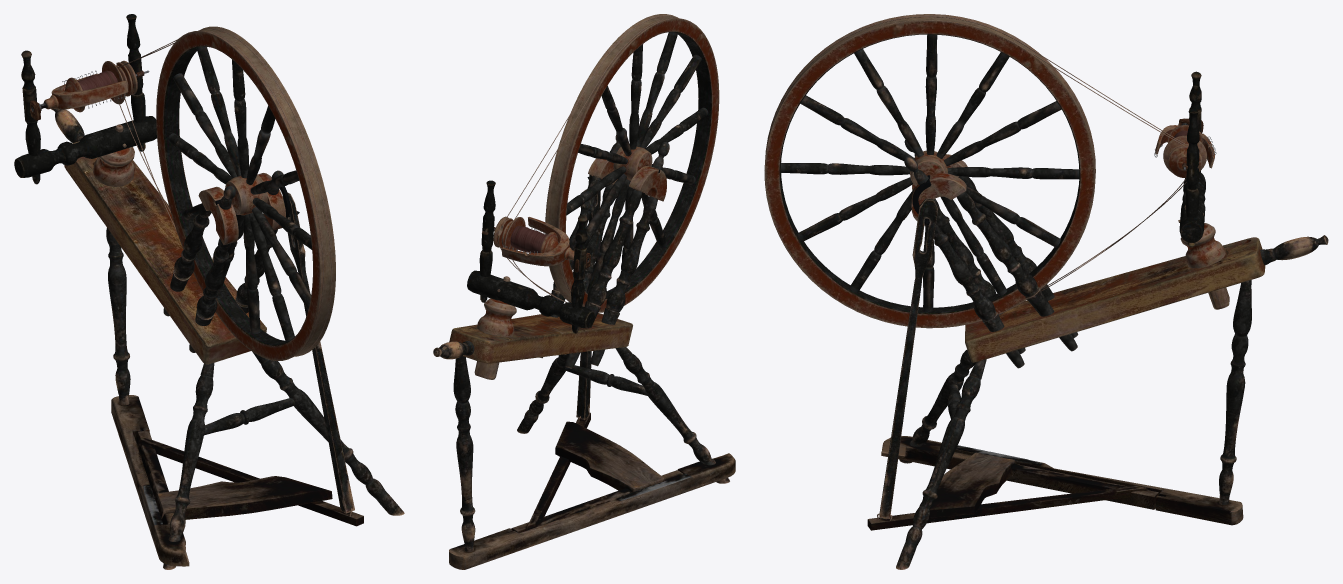
The model's file is spinnrad.glb.
3 views of the same model, side by side, from view 1: azimuth 30°, elevation 25°; view 2: azimuth 150°, elevation 25°; view 3: azimuth 270°, elevation 25° (orthographic). The views are drawn at different scales.
Visible parts, largest first — view 1: spinning_wheel_01; view 2: spinning_wheel_01; view 3: spinning_wheel_01.
Part boxes in pixels (x1=…): spinning_wheel_01: x1=14, y1=14, x2=404, y2=569; spinning_wheel_01: x1=433, y1=14, x2=735, y2=569; spinning_wheel_01: x1=764, y1=14, x2=1328, y2=569.
Bounding box in the file's own units: 14.68 × 28.99 × 30.75.
1 material, 1 textured.
